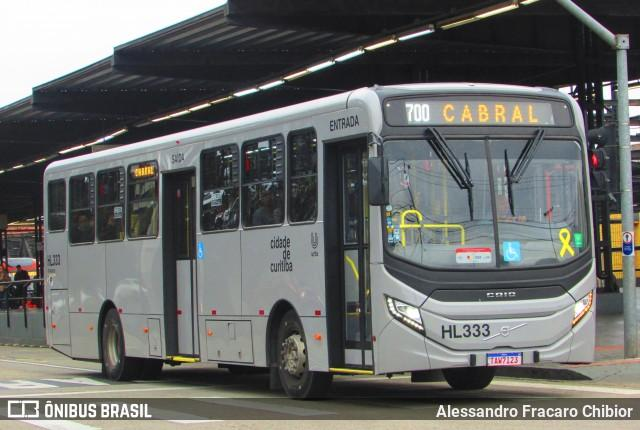CABRAL: (436, 101, 542, 125)
